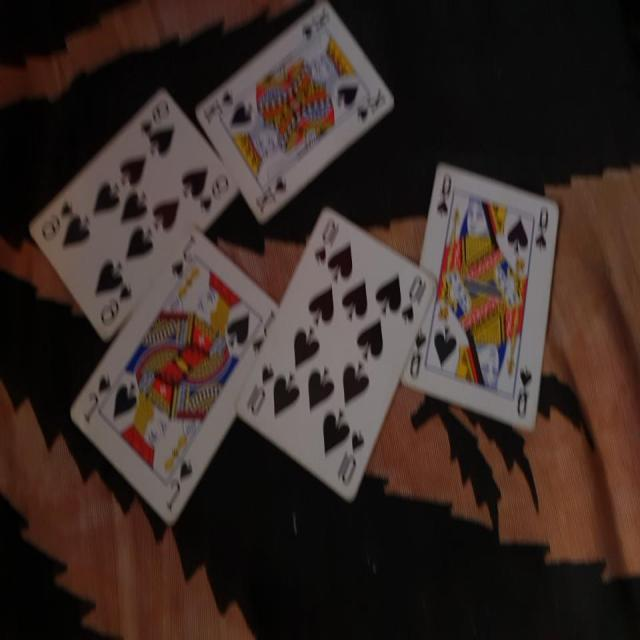10 of spades: (231, 207, 443, 514)
9 of spades: (28, 75, 242, 344)
jack of spades: (65, 234, 288, 522)
king of spades: (196, 12, 404, 230)
queen of spades: (402, 156, 562, 432)
